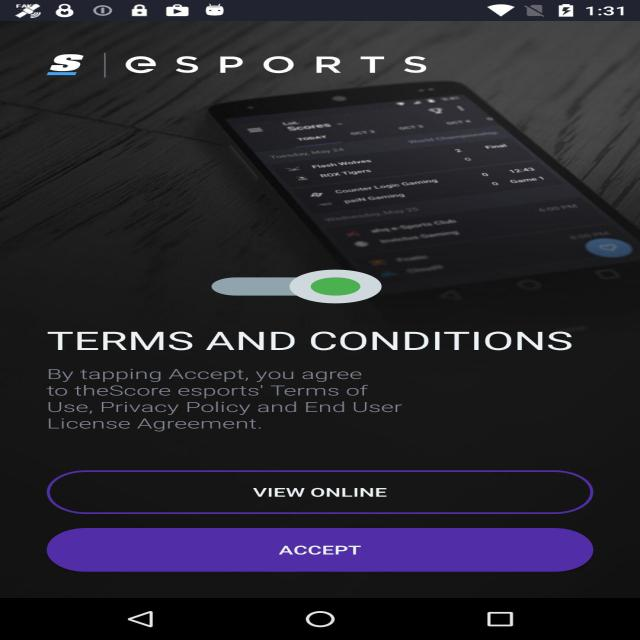social proof: (212, 255, 382, 318)
